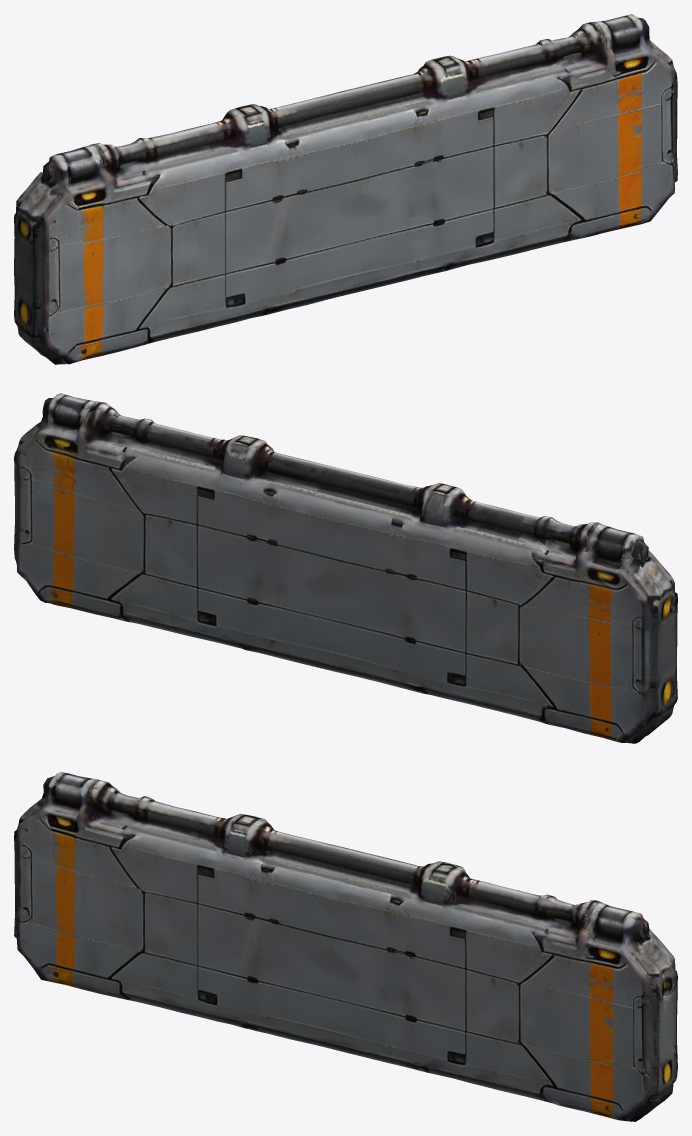
The model's file is scifipanelcrate_optimizado.glb.
3 renders of one model, top to bottom at view 1: azimuth 30°, elevation 25°; view 2: azimuth 150°, elevation 25°; view 3: azimuth 330°, elevation 25°, orthographic.
Parts seen in each view (by area): view 1: input; view 2: input; view 3: input.
Boxes of the visible parts, <box> form: input: <box>14,14,677,364</box>; input: <box>14,393,677,743</box>; input: <box>14,772,677,1121</box>.
Size of the model in its own units: 3 by 0.9135 by 0.2472.
Materials: 1 (1 with a texture image).
